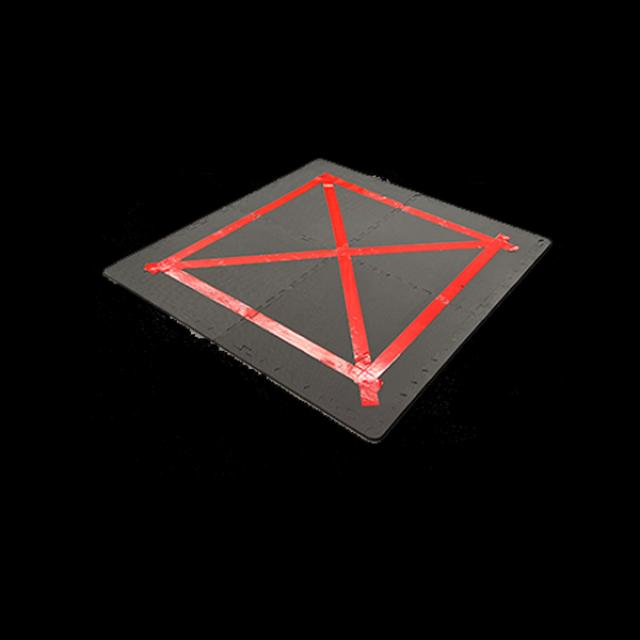landingPads: (102, 156, 555, 442)
